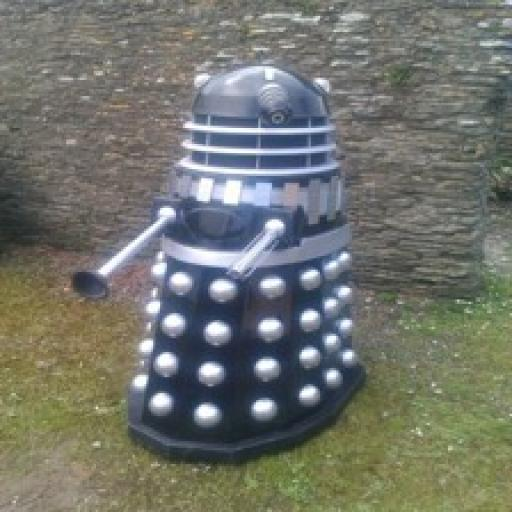dalek: (71, 66, 367, 462)
